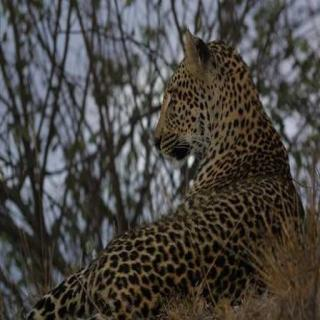Leopard: (97, 22, 319, 320)
